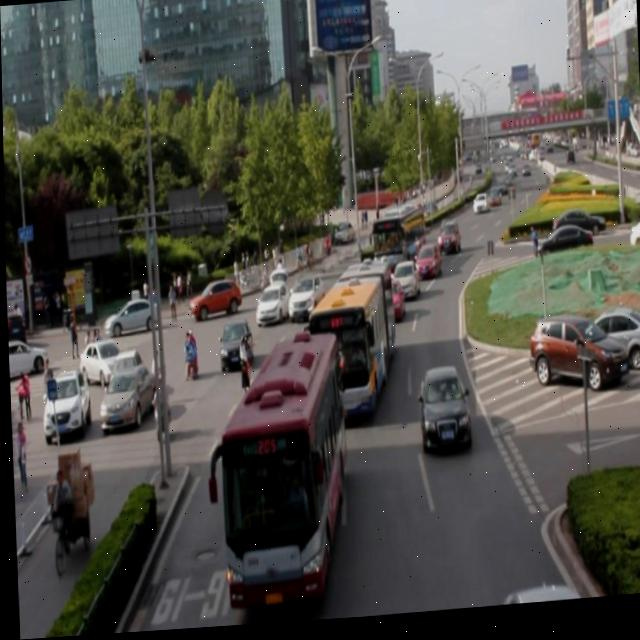car: (415, 366, 467, 456), (261, 352, 310, 418), (336, 264, 380, 308), (283, 278, 323, 326), (495, 590, 582, 612), (215, 322, 251, 375), (252, 284, 289, 332), (369, 281, 402, 326), (389, 261, 417, 307), (412, 245, 439, 285), (433, 222, 458, 262)
van: (215, 342, 344, 607), (305, 265, 393, 425), (370, 214, 424, 279)
